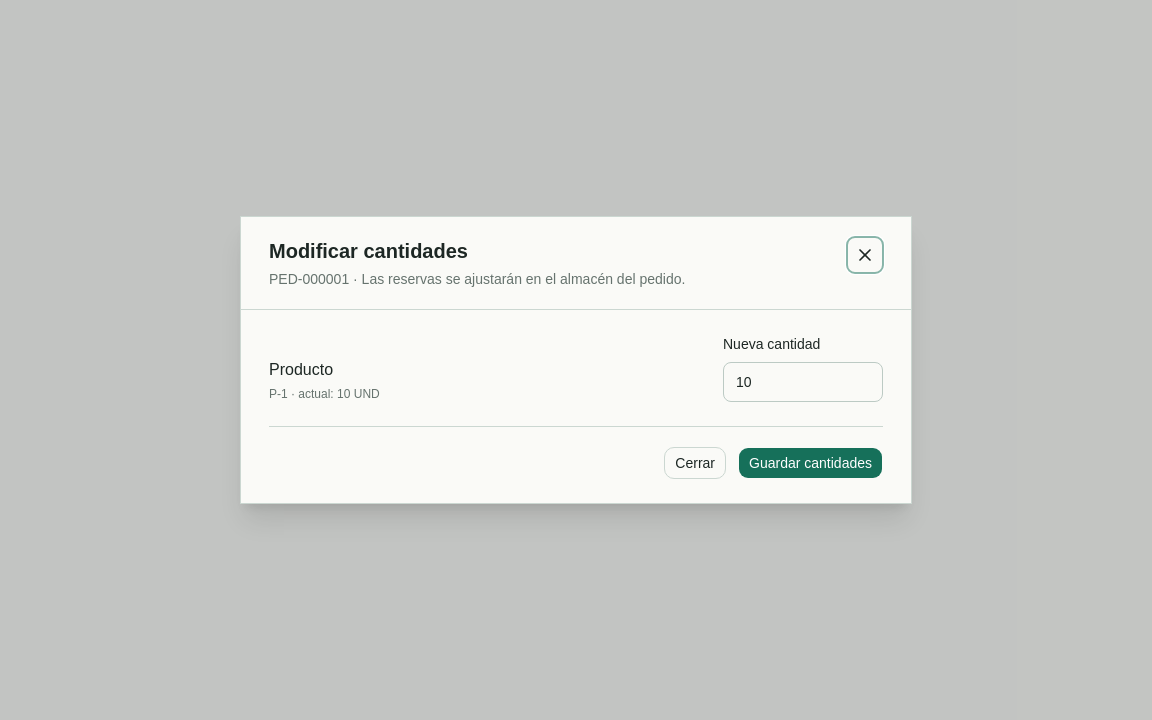
DialogoModificacionPedido › muestra el error RPC y conserva el diálogo abierto
The width and height of the screenshot is (1152, 720).
Click the button "Guardar cantidades" at (810,463), box [738,447,883,479]
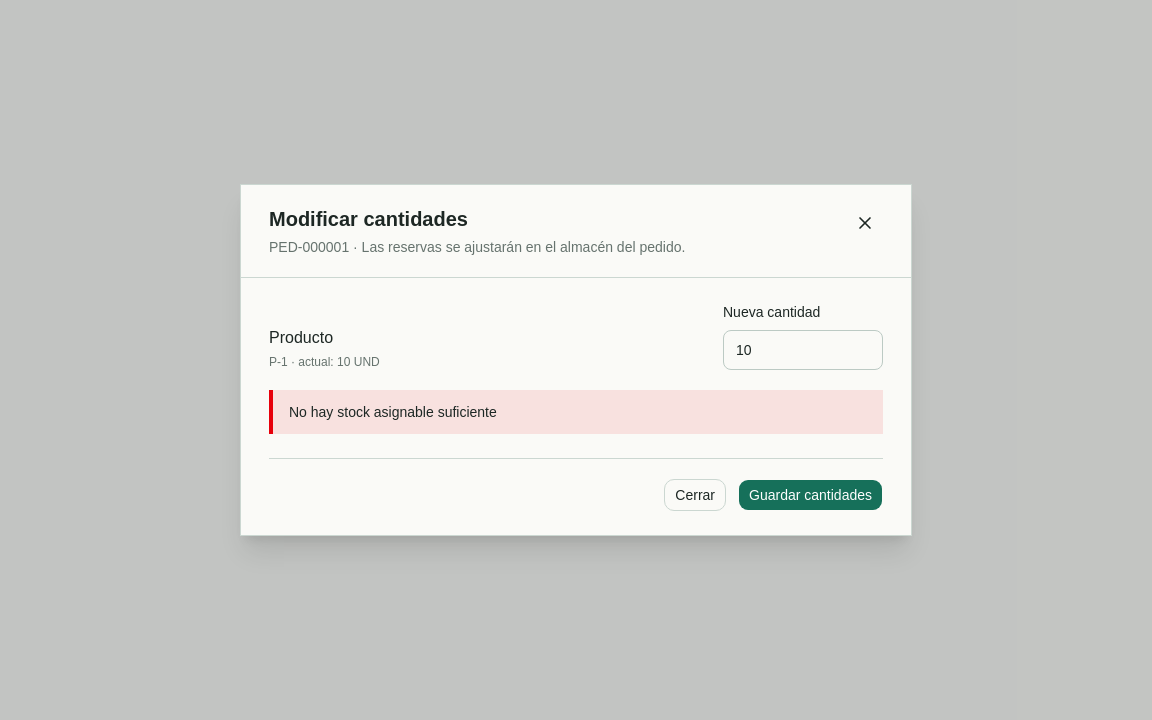
Expected: the message reads "No hay stock asignable suficiente", [289,404,497,420]
